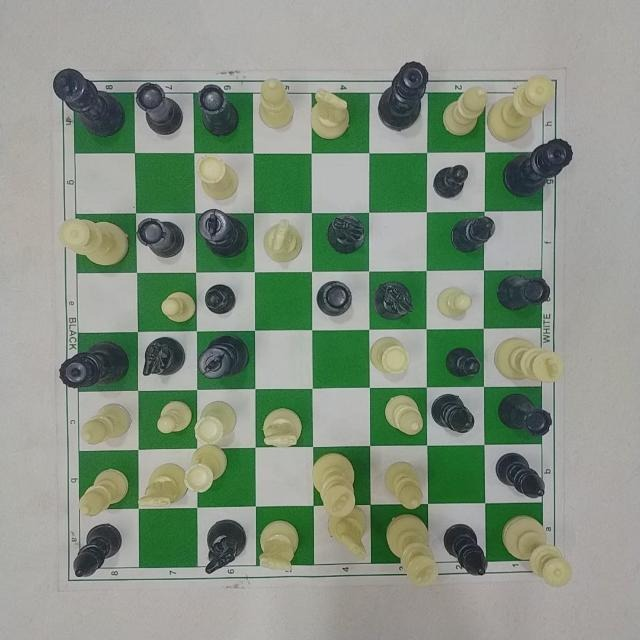black-bishop: (65, 522, 125, 582), (491, 449, 552, 501), (445, 522, 489, 584), (450, 210, 502, 260), (432, 391, 476, 441)
black-king: (49, 63, 129, 138), (197, 208, 255, 263), (196, 332, 260, 381)
black-knight: (323, 209, 375, 261), (203, 516, 249, 574), (374, 278, 418, 326), (142, 335, 185, 378)
black-pawn: (442, 341, 489, 383), (431, 159, 475, 202), (205, 279, 243, 317)
black-queen: (498, 511, 575, 591), (502, 140, 573, 206), (376, 58, 428, 133), (56, 340, 128, 392)
black-rook: (133, 76, 185, 140), (498, 391, 556, 441), (192, 80, 241, 139), (496, 269, 554, 317), (136, 214, 187, 259), (313, 271, 361, 316)
white-bishop: (69, 465, 130, 517), (74, 401, 137, 449), (442, 81, 490, 142), (381, 459, 429, 513), (257, 74, 297, 138), (380, 391, 428, 443)
white-king: (380, 512, 439, 588), (496, 332, 566, 385), (310, 449, 359, 517)
white-knight: (253, 515, 305, 578), (306, 83, 356, 147), (322, 509, 370, 565), (138, 461, 186, 512), (262, 214, 307, 265), (259, 404, 307, 451)
white-pawn: (435, 281, 478, 323), (155, 288, 200, 326), (155, 395, 193, 439)
white-queen: (495, 73, 559, 143), (55, 213, 129, 271)
white-rook: (192, 150, 241, 205), (367, 332, 415, 379), (196, 401, 246, 445), (184, 444, 229, 490)
